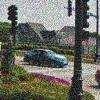traffic lights: (82, 0, 90, 27), (9, 5, 19, 26), (80, 29, 92, 42)
